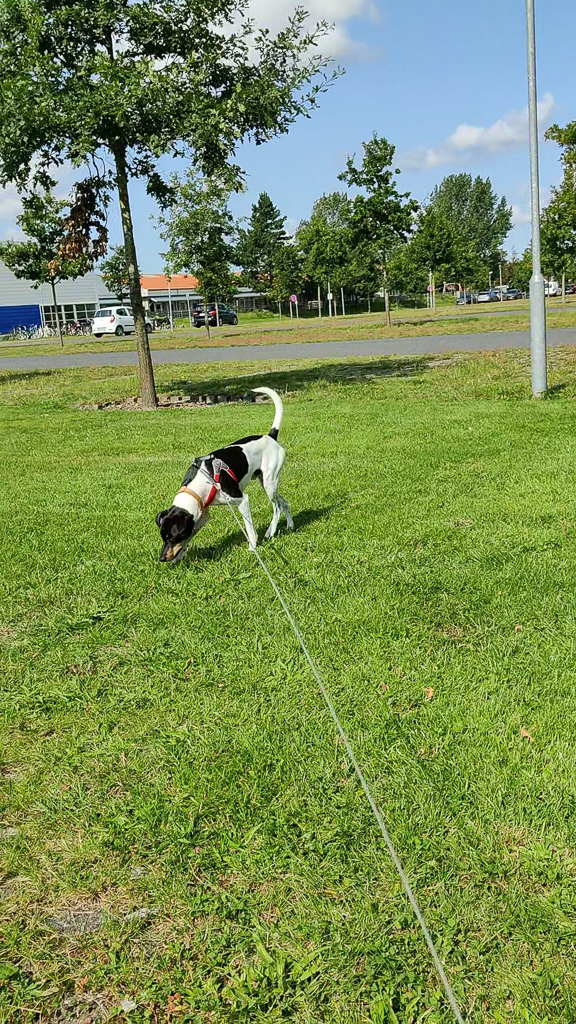Dog: (145, 381, 299, 569)
